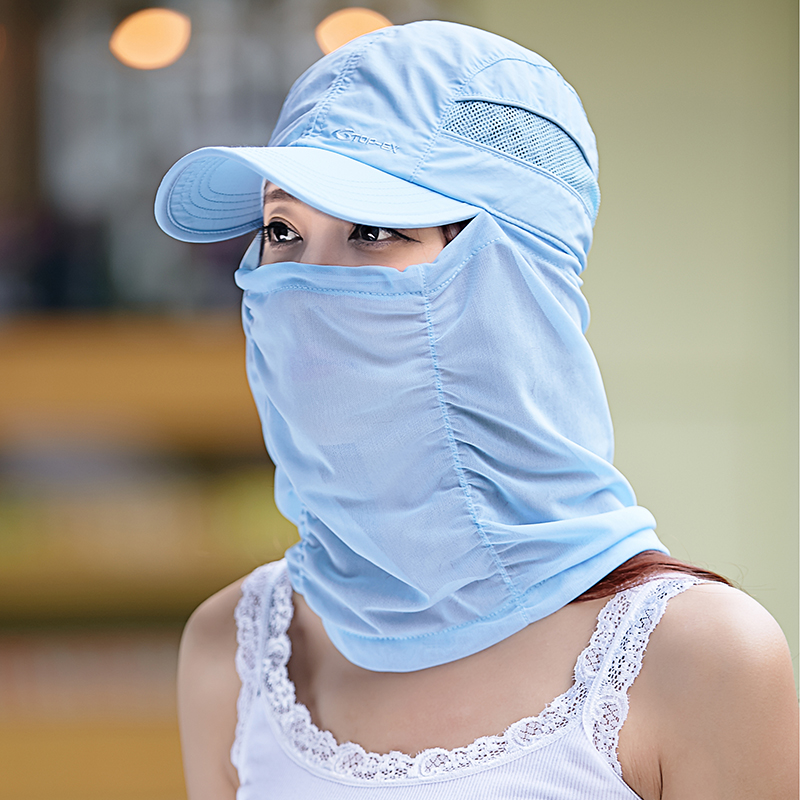face_mask: (251, 150, 466, 414)
